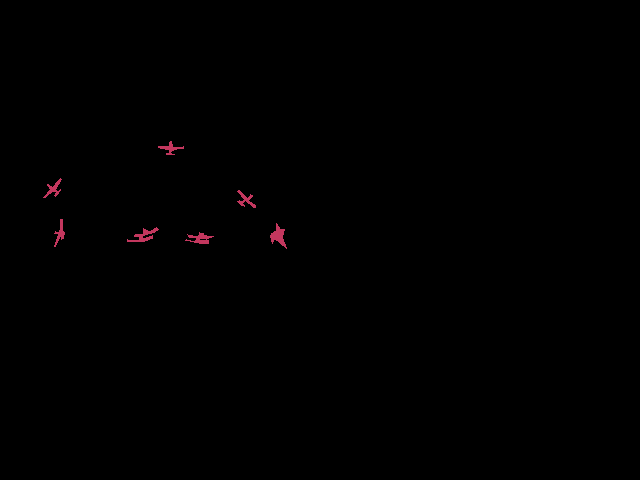Airplane: (127, 227, 158, 242), (270, 223, 287, 248), (43, 178, 62, 197), (158, 141, 184, 154), (185, 232, 213, 244), (237, 190, 255, 208), (54, 219, 65, 246)
